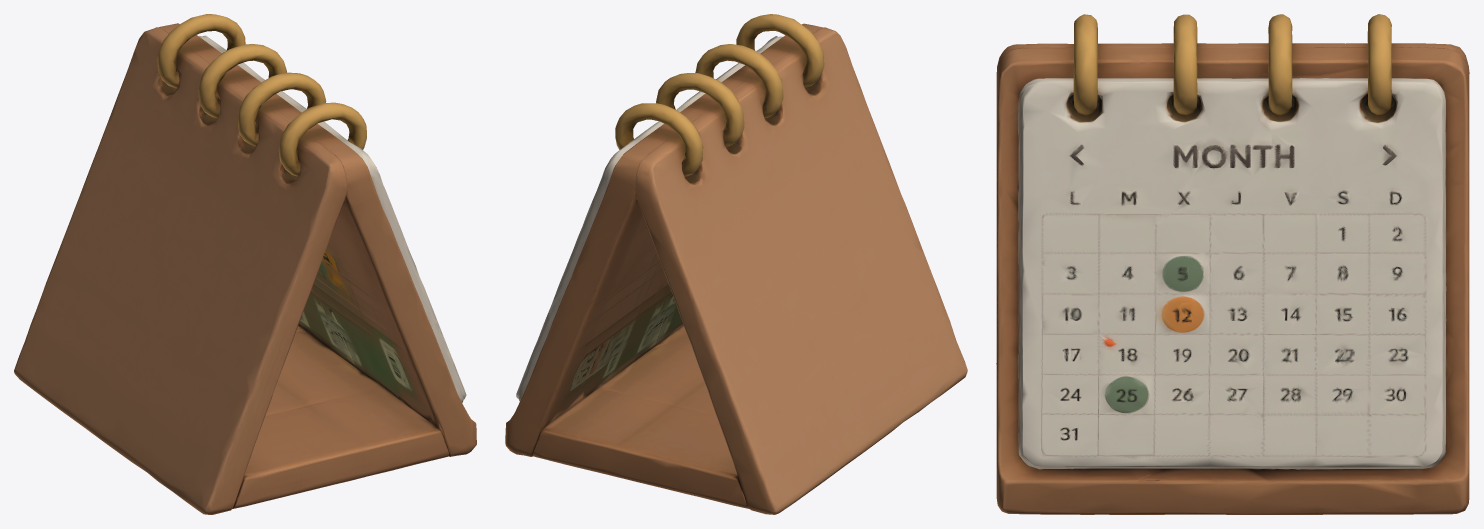
File: finance-desk-calendar.glb
3 views of the same model, side by side, from view 1: azimuth 30°, elevation 25°; view 2: azimuth 150°, elevation 25°; view 3: azimuth 270°, elevation 25° (orthographic). The views are drawn at different scales.
Visible parts, largest first — view 1: tripo_node_4af532ca-8949-45ce-9f81-59edb2d073dc; view 2: tripo_node_4af532ca-8949-45ce-9f81-59edb2d073dc; view 3: tripo_node_4af532ca-8949-45ce-9f81-59edb2d073dc.
Boxes of the visible parts, x1,y1,x2,y2 form: tripo_node_4af532ca-8949-45ce-9f81-59edb2d073dc: (14, 14, 476, 514); tripo_node_4af532ca-8949-45ce-9f81-59edb2d073dc: (505, 14, 967, 514); tripo_node_4af532ca-8949-45ce-9f81-59edb2d073dc: (996, 14, 1469, 514).
Size of the model in its own units: 0.8112 by 0.9945 by 1.
1 material, 1 textured.
